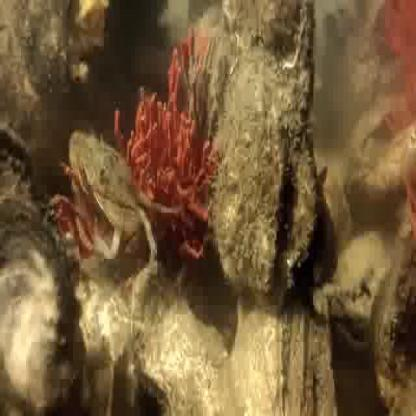Oyster-Closed: (220, 0, 314, 306), (0, 163, 74, 416)
Oyster-Open: (0, 114, 34, 173)
